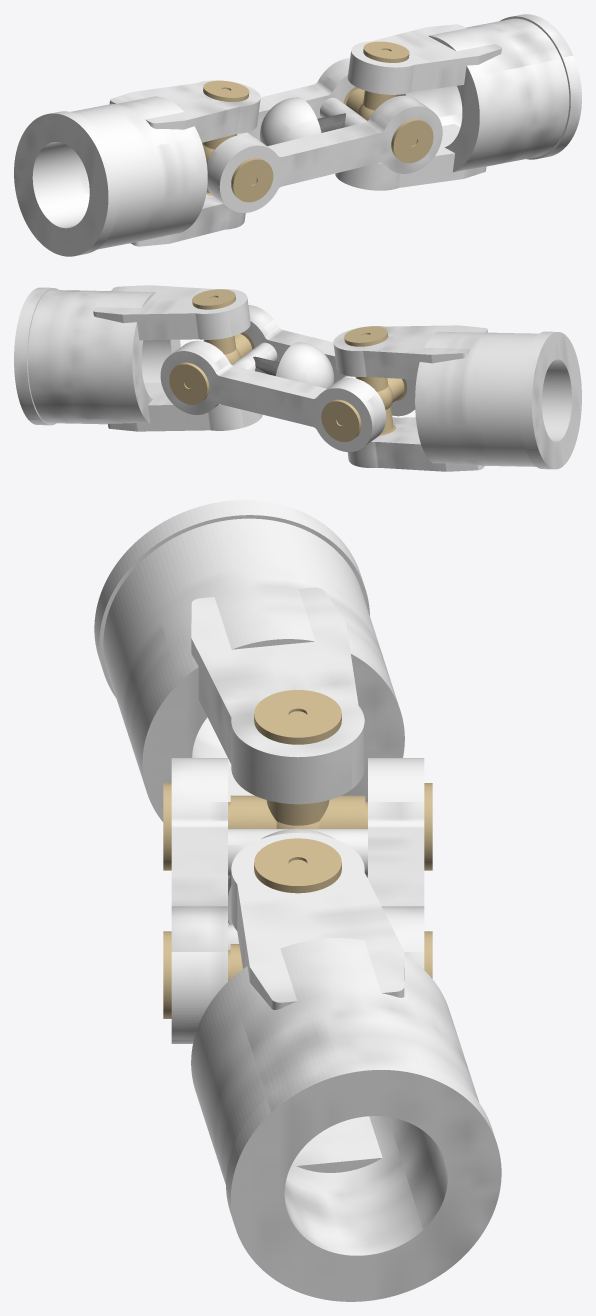
File: universal_joint__0003.glb
The picture shows the model from 3 angles, top to bottom: view 1: azimuth 30°, elevation 25°; view 2: azimuth 150°, elevation 25°; view 3: azimuth 270°, elevation 25°; orthographic projection. The views are drawn at different scales.
Parts seen in each view (by area): view 1: left_section::sleeve_yoke_body, right_section::sleeve_yoke_body, middle_section::double_yoke_forging, middle_section::centering_socket, middle_section::right_cap_neg_y, middle_section::left_cap_neg_y, right_spider::spider_core, left_section::left_cap_pos_z, right_section::right_cap_pos_z, middle_section::centering_ball_stub; view 2: left_section::sleeve_yoke_body, right_section::sleeve_yoke_body, middle_section::double_yoke_forging, middle_section::centering_socket, middle_section::right_cap_pos_y, middle_section::left_cap_pos_y, left_spider::spider_core, right_spider::spider_core, left_section::left_cap_pos_z, right_section::right_cap_pos_z, middle_section::centering_ball_stub; view 3: right_section::sleeve_yoke_body, left_section::sleeve_yoke_body, middle_section::double_yoke_forging, left_spider::spider_core, left_section::left_cap_pos_z, right_section::right_cap_pos_z.
Part boxes in pixels (bbox=[...]): left_section::sleeve_yoke_body: bbox=[14, 80, 260, 256]; right_section::sleeve_yoke_body: bbox=[335, 14, 581, 190]; middle_section::double_yoke_forging: bbox=[207, 58, 442, 212]; middle_section::centering_socket: bbox=[260, 97, 321, 146]; middle_section::right_cap_neg_y: bbox=[391, 118, 433, 163]; middle_section::left_cap_neg_y: bbox=[231, 158, 273, 202]; right_spider::spider_core: bbox=[346, 88, 397, 120]; left_section::left_cap_pos_z: bbox=[203, 80, 249, 101]; right_section::right_cap_pos_z: bbox=[363, 41, 409, 62]; middle_section::centering_ball_stub: bbox=[317, 113, 345, 132]; left_section::sleeve_yoke_body: bbox=[333, 325, 581, 471]; right_section::sleeve_yoke_body: bbox=[14, 285, 262, 431]; middle_section::double_yoke_forging: bbox=[160, 305, 416, 451]; middle_section::centering_socket: bbox=[275, 342, 333, 388]; middle_section::right_cap_pos_y: bbox=[169, 362, 209, 404]; middle_section::left_cap_pos_y: bbox=[321, 399, 361, 441]; left_spider::spider_core: bbox=[355, 376, 404, 433]; right_spider::spider_core: bbox=[203, 334, 252, 364]; left_section::left_cap_pos_z: bbox=[344, 326, 388, 346]; right_section::right_cap_pos_z: bbox=[192, 289, 235, 309]; middle_section::centering_ball_stub: bbox=[253, 356, 279, 375]; right_section::sleeve_yoke_body: bbox=[191, 833, 501, 1301]; left_section::sleeve_yoke_body: bbox=[94, 500, 404, 924]; middle_section::double_yoke_forging: bbox=[171, 758, 424, 1043]; left_spider::spider_core: bbox=[230, 795, 365, 828]; left_section::left_cap_pos_z: bbox=[254, 690, 341, 744]; right_section::right_cap_pos_z: bbox=[254, 838, 341, 893].
Bounding box in the file's own units: 0.168 × 0.0542 × 0.0581.
Materials: 4 (3 with a texture image).
